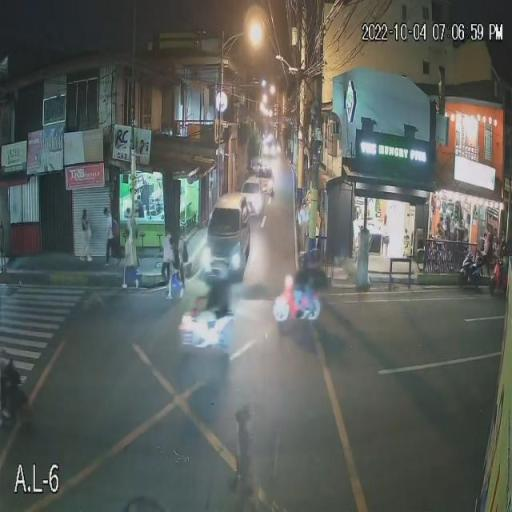helmet: (211, 259, 233, 279), (198, 266, 217, 287), (310, 252, 328, 271), (298, 254, 314, 272)
motorcycle: (174, 307, 242, 351), (271, 279, 326, 327)
rider: (196, 268, 216, 322), (214, 256, 232, 313), (308, 250, 329, 290), (292, 250, 310, 294)
